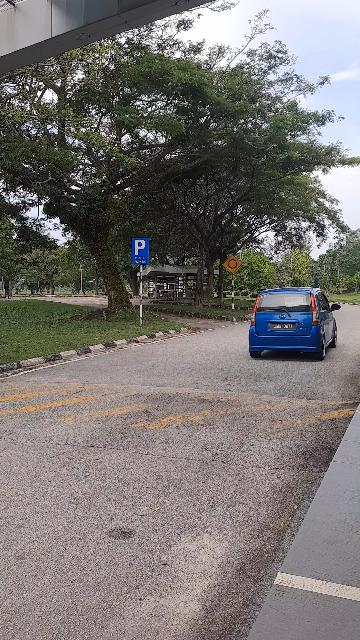License_Plate: (269, 323, 300, 331)
car: (246, 284, 341, 360)
